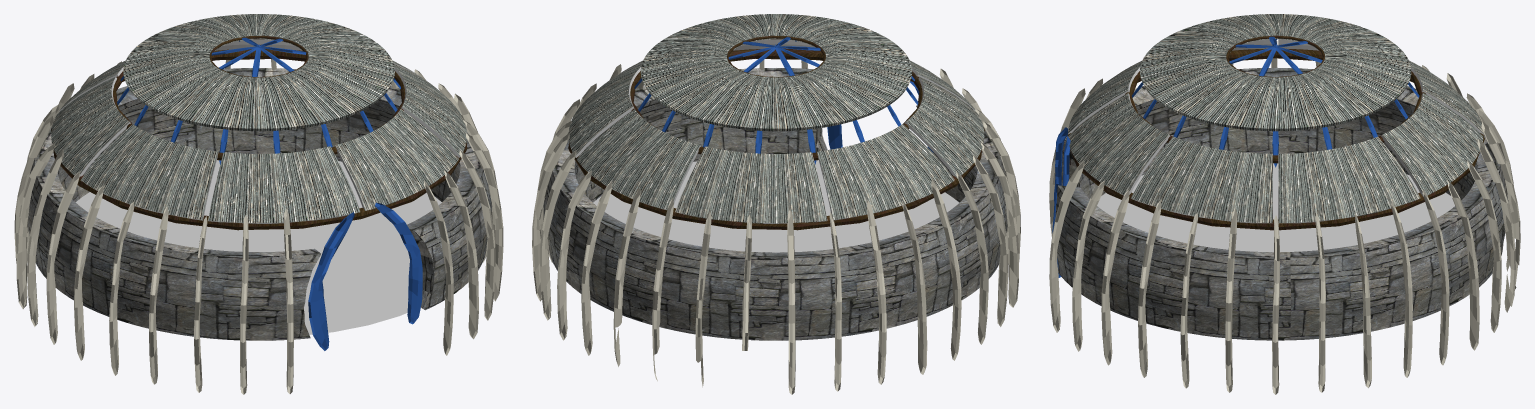
Rendered from TownCenter.fbx.
3 views of the same model, side by side, from view 1: azimuth 30°, elevation 25°; view 2: azimuth 150°, elevation 25°; view 3: azimuth 270°, elevation 25° (orthographic).
Parts seen in each view (by area): view 1: Fassade, Bones, Ground, Wood; view 2: Fassade, Bones, Ground, Wood; view 3: Fassade, Bones, Ground, Wood.
Part boxes in pixels (box(x1,y1,x2,y2)): Fassade: box(28, 14, 492, 340); Bones: box(14, 37, 503, 394); Ground: box(75, 160, 441, 334); Wood: box(51, 35, 467, 230); Fassade: box(543, 14, 1007, 340); Bones: box(532, 37, 1020, 394); Ground: box(593, 160, 959, 252); Wood: box(568, 35, 984, 230); Fassade: box(1055, 14, 1508, 340); Bones: box(1049, 36, 1520, 394); Ground: box(1097, 163, 1454, 252); Wood: box(1066, 35, 1484, 230).
Bounding box in the file's own units: 307 × 173 × 295.
